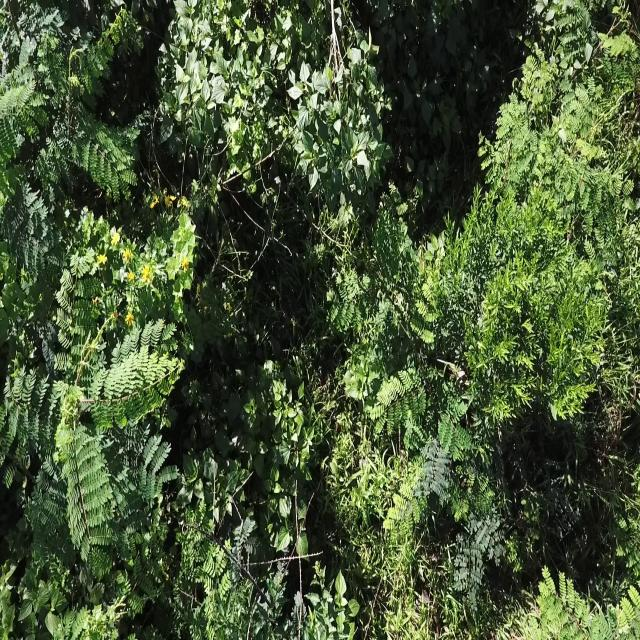Mysore-Thorn-Weed: (0, 250, 183, 570), (468, 0, 639, 220), (356, 366, 509, 597), (2, 2, 142, 205), (322, 176, 422, 347), (0, 51, 57, 272), (172, 499, 255, 640), (530, 561, 640, 640)
